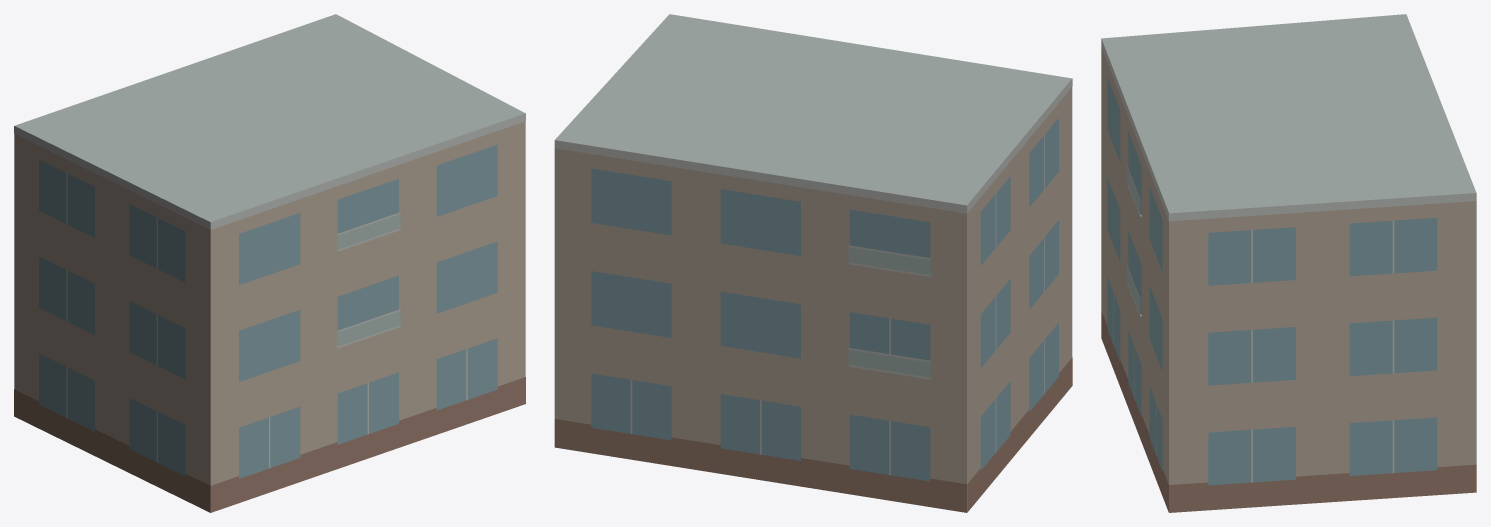
Rendered from survey-upis-32615353.glb.
The picture shows the model from 3 angles, left to right: view 1: azimuth 30°, elevation 25°; view 2: azimuth 150°, elevation 25°; view 3: azimuth 270°, elevation 25°; orthographic projection. The views are drawn at different scales.
Parts seen in each view (by area): view 1: survey-upis-32615353.tmp; view 2: survey-upis-32615353.tmp; view 3: survey-upis-32615353.tmp.
Boxes of the visible parts, x1,y1,x2,y2 form: survey-upis-32615353.tmp: [14, 14, 525, 512]; survey-upis-32615353.tmp: [554, 14, 1072, 512]; survey-upis-32615353.tmp: [1101, 14, 1476, 512].
Size of the model in its own units: 13.07 by 9.15 by 10.4.
